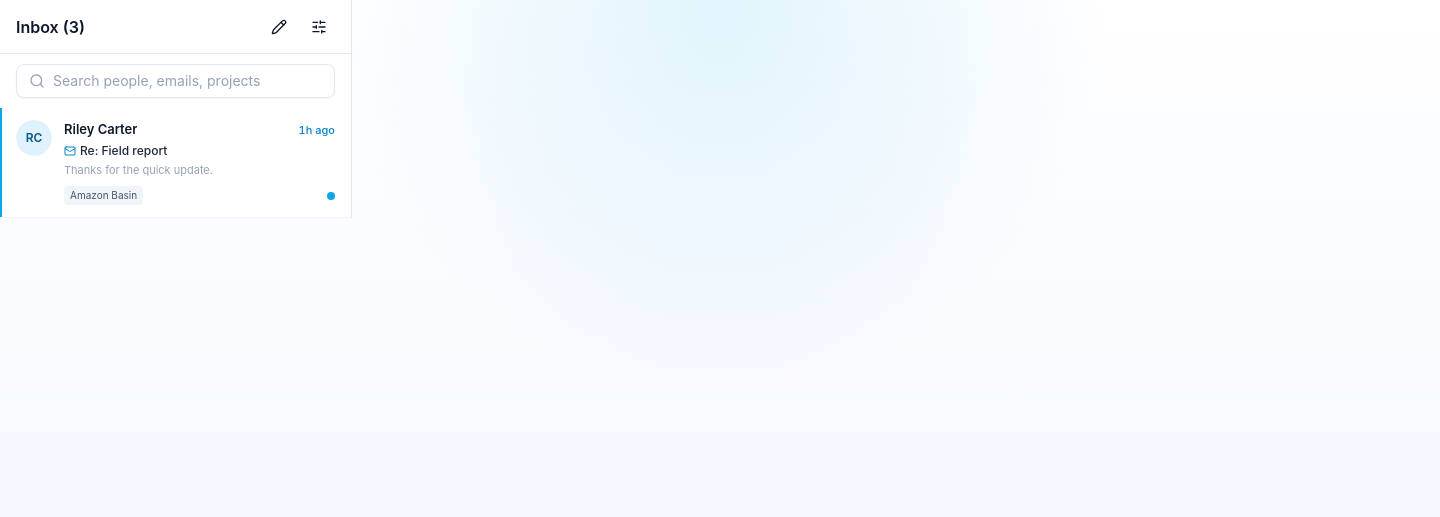
it: Inbox list shell › renders the active state label when only a state filter is active
Click the button named "Filters".
click(319, 26)  # box [303, 10, 335, 42]
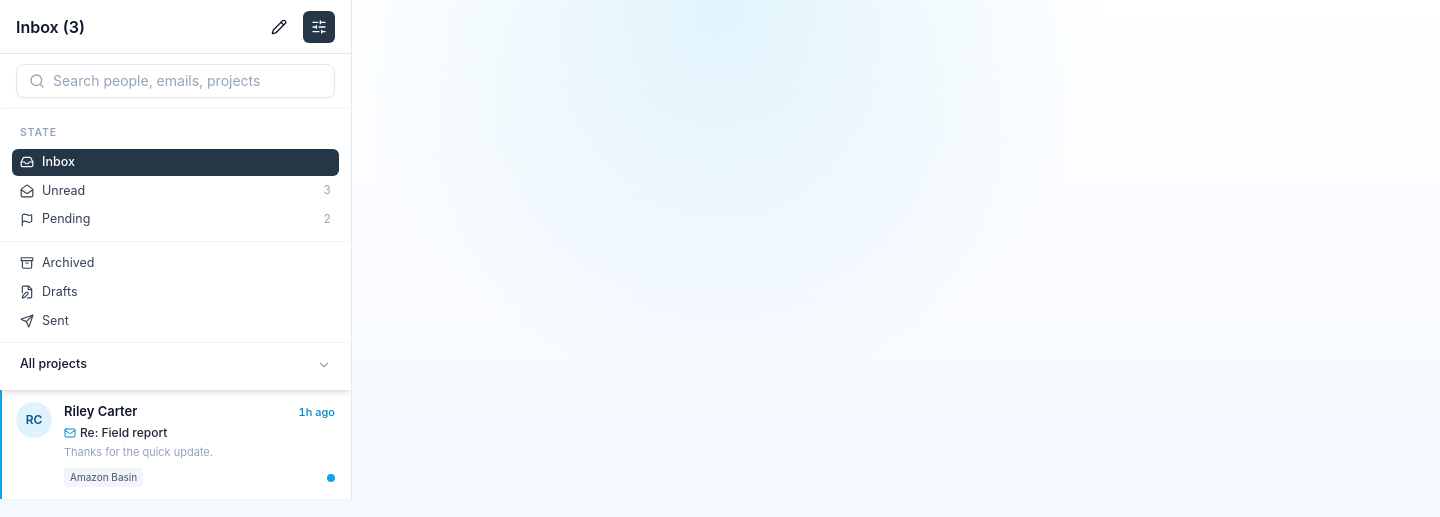
Click the button "Pending 2".
click(66, 219)  # box [12, 206, 339, 233]
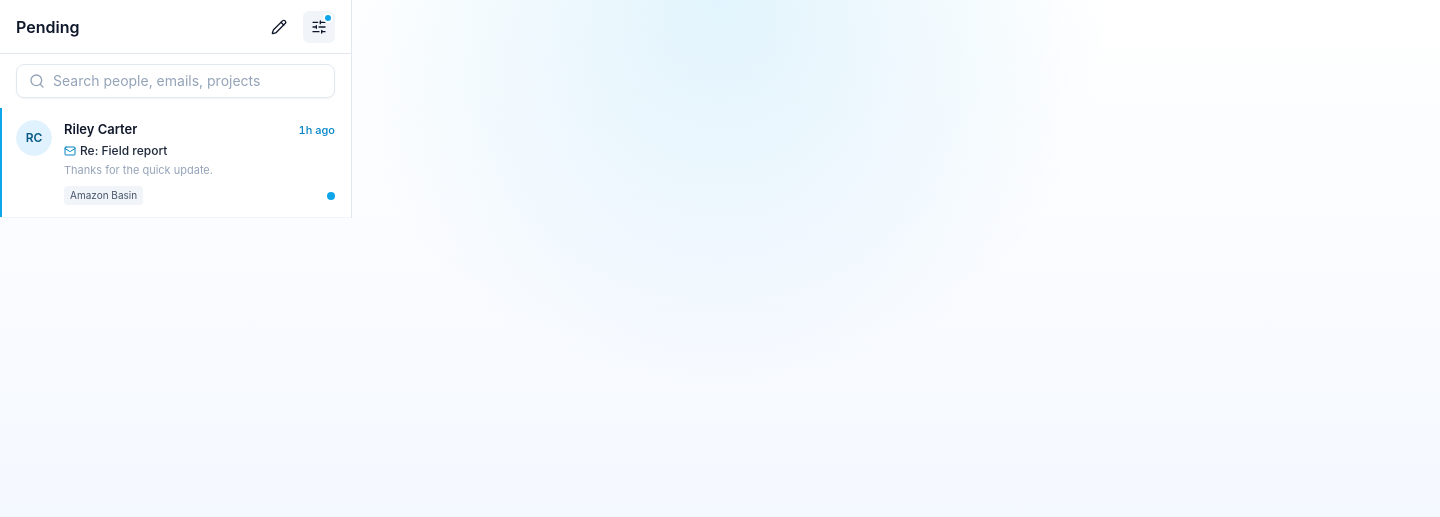
Result: the heading "Pending" is shown at [16, 16, 79, 36]
